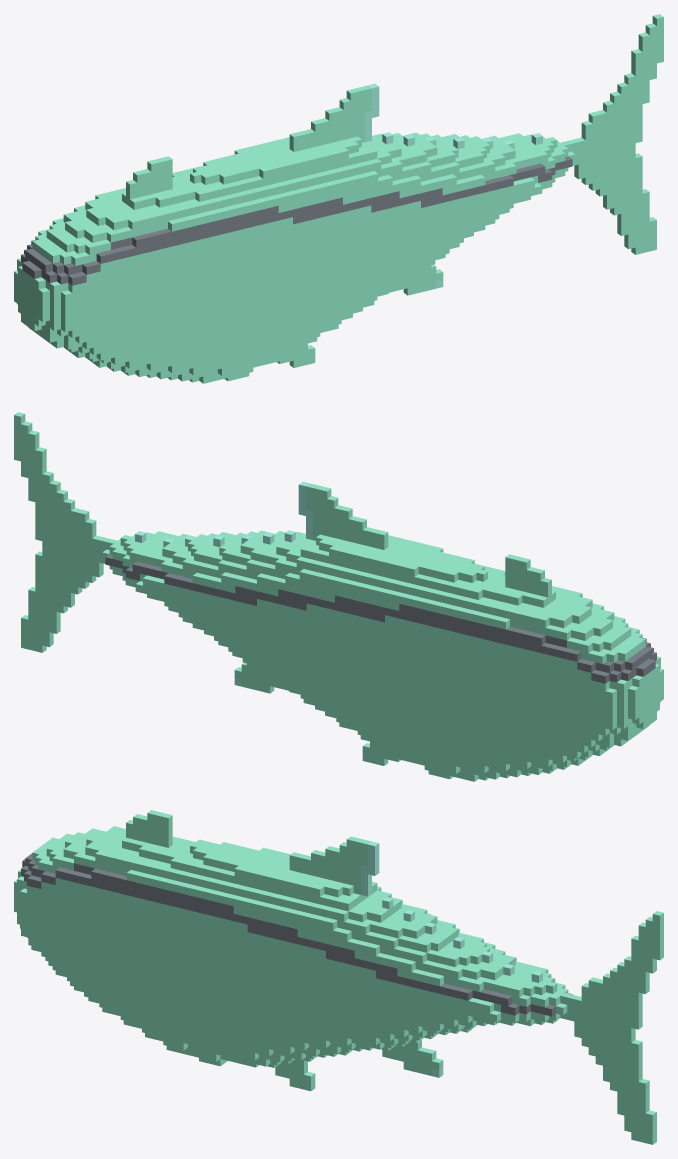
The model's file is Tuna.obj.
The picture shows the model from 3 angles, top to bottom: view 1: azimuth 30°, elevation 25°; view 2: azimuth 150°, elevation 25°; view 3: azimuth 330°, elevation 25°; orthographic projection.
Bounding box in the file's own units: 8.9 × 3.5 × 1.1.
